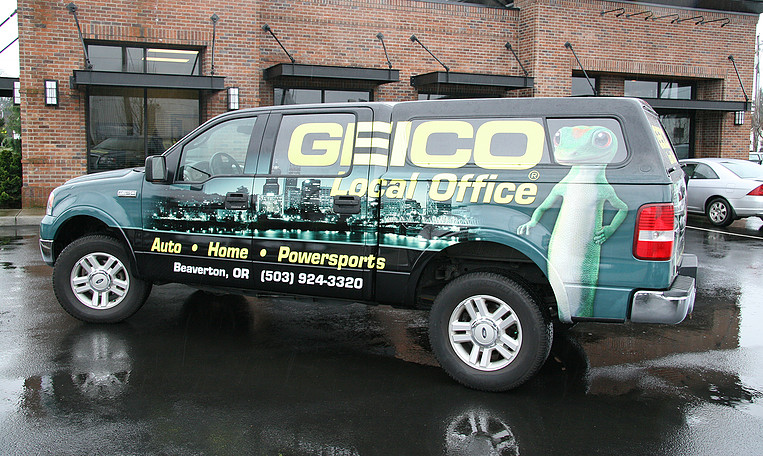geico: (284, 119, 555, 176)
